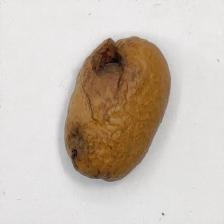NG: (92, 34, 130, 95), (64, 123, 90, 171)
